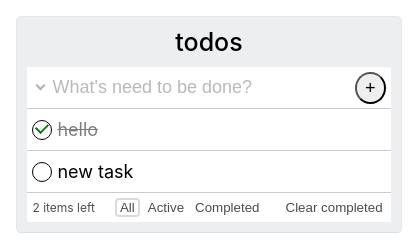
Test case: App e2e test › todolist should change tasks filter
expect the number of elements with test id "task" is 2: met, box x1=27 y1=109 x2=390 y2=151; x1=27 y1=151 x2=390 y2=193
expect the text "hello" is shown: met, box x1=57 y1=120 x2=98 y2=140
Click the button "Active" at x=166, y=208, box x1=145 y1=198 x2=187 y2=217
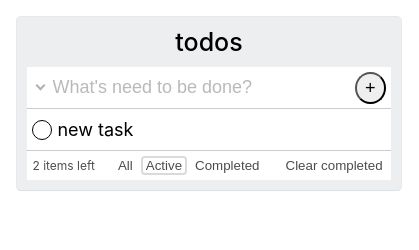
expect the text "new task" is shown: met, box x1=57 y1=120 x2=134 y2=140
expect the number of elements with test id "task" is 1: met, box x1=27 y1=109 x2=390 y2=151
expect the text "hello" is gone: met
Click the button "Completed" at x=228, y=166, box x1=192 y1=156 x2=263 y2=175
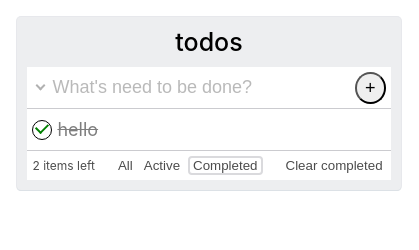
expect the number of elements with test id "task" is 1: met, box x1=27 y1=109 x2=390 y2=151
expect the text "hello" is shown: met, box x1=57 y1=120 x2=98 y2=140
expect the text "new task" is gone: met
Click the button "All" at x=126, y=166, box x1=115 y1=156 x2=136 y2=175
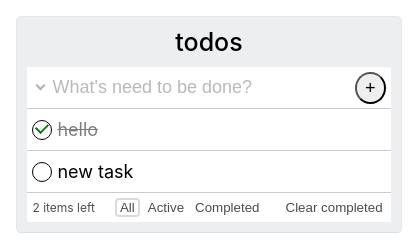
expect the text "hello" is shown: met, box x1=57 y1=120 x2=98 y2=140
expect the number of elements with test id "task" is 2: met, box x1=27 y1=109 x2=390 y2=151; x1=27 y1=151 x2=390 y2=193
expect the text "new task" is shown: met, box x1=57 y1=162 x2=134 y2=182
